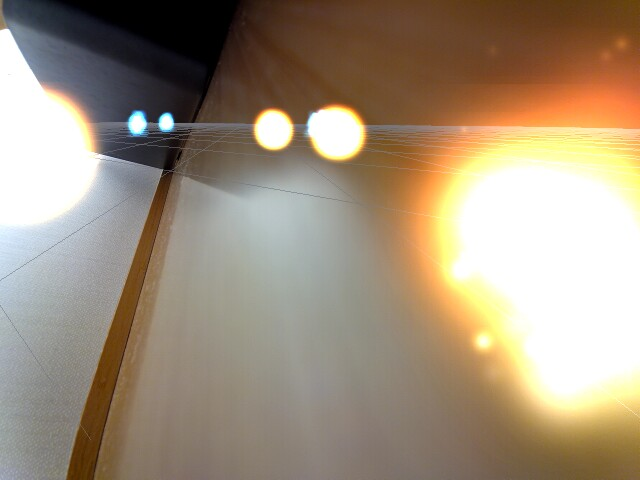firebig: (435, 114, 640, 425)
